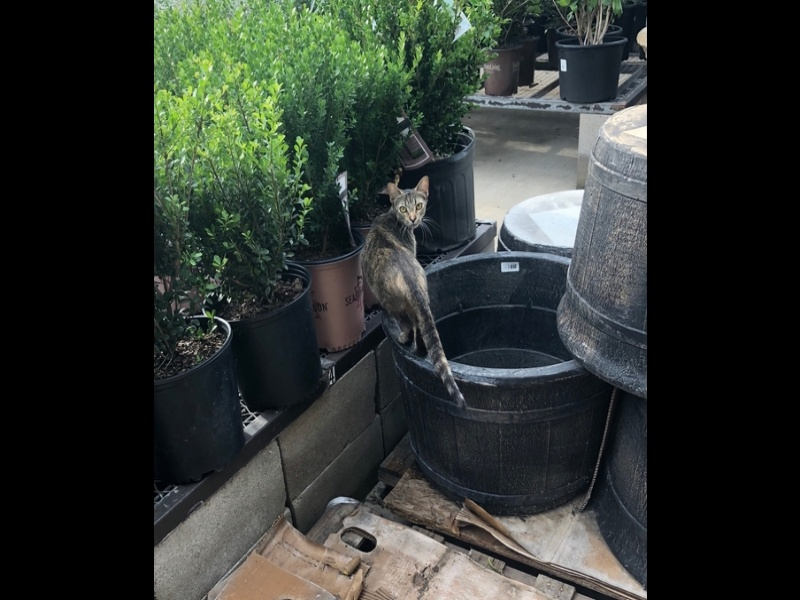cat: (359, 176, 478, 412)
